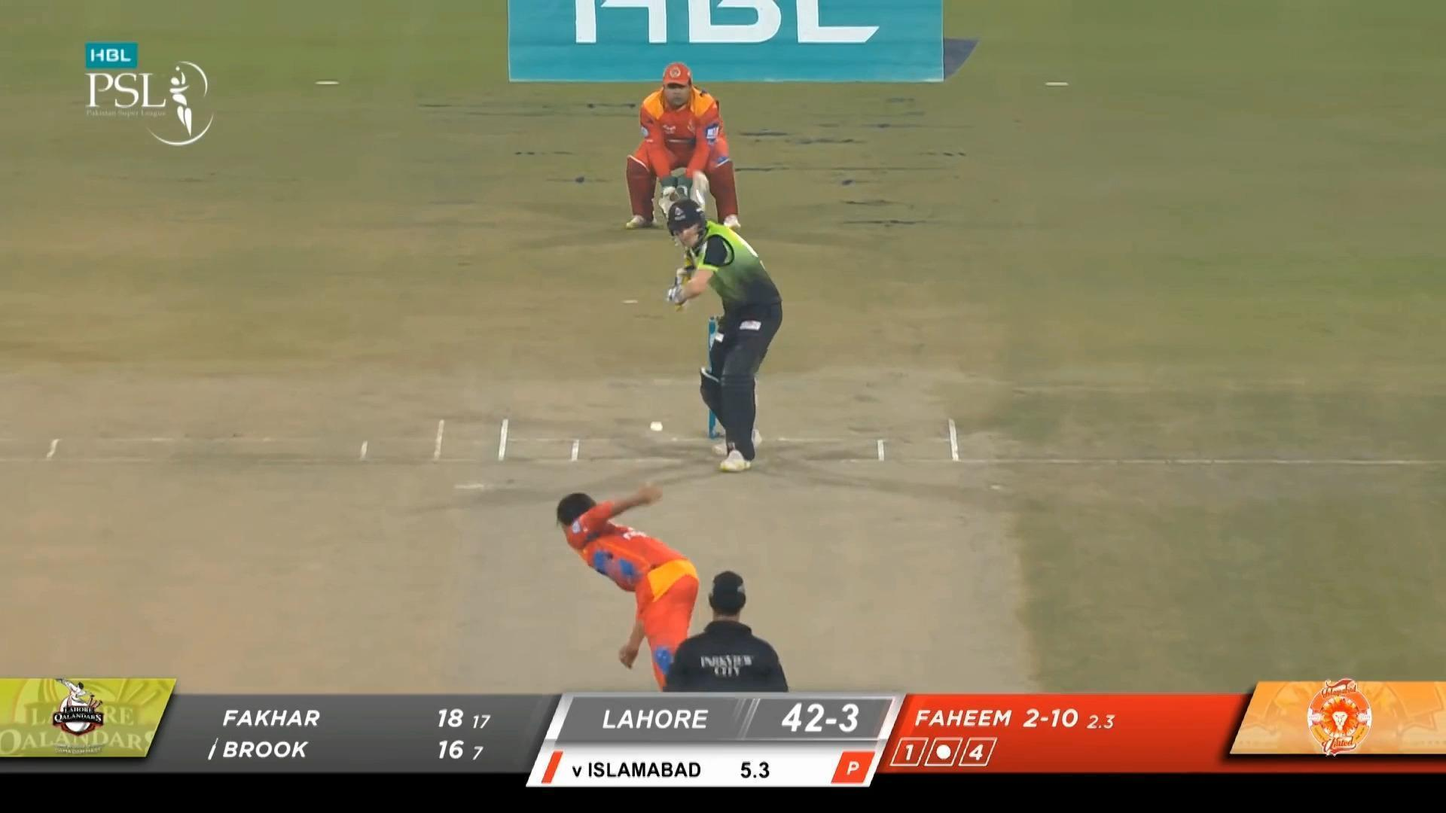BM 1: (666, 172, 784, 474)
BO: (554, 480, 725, 758)
